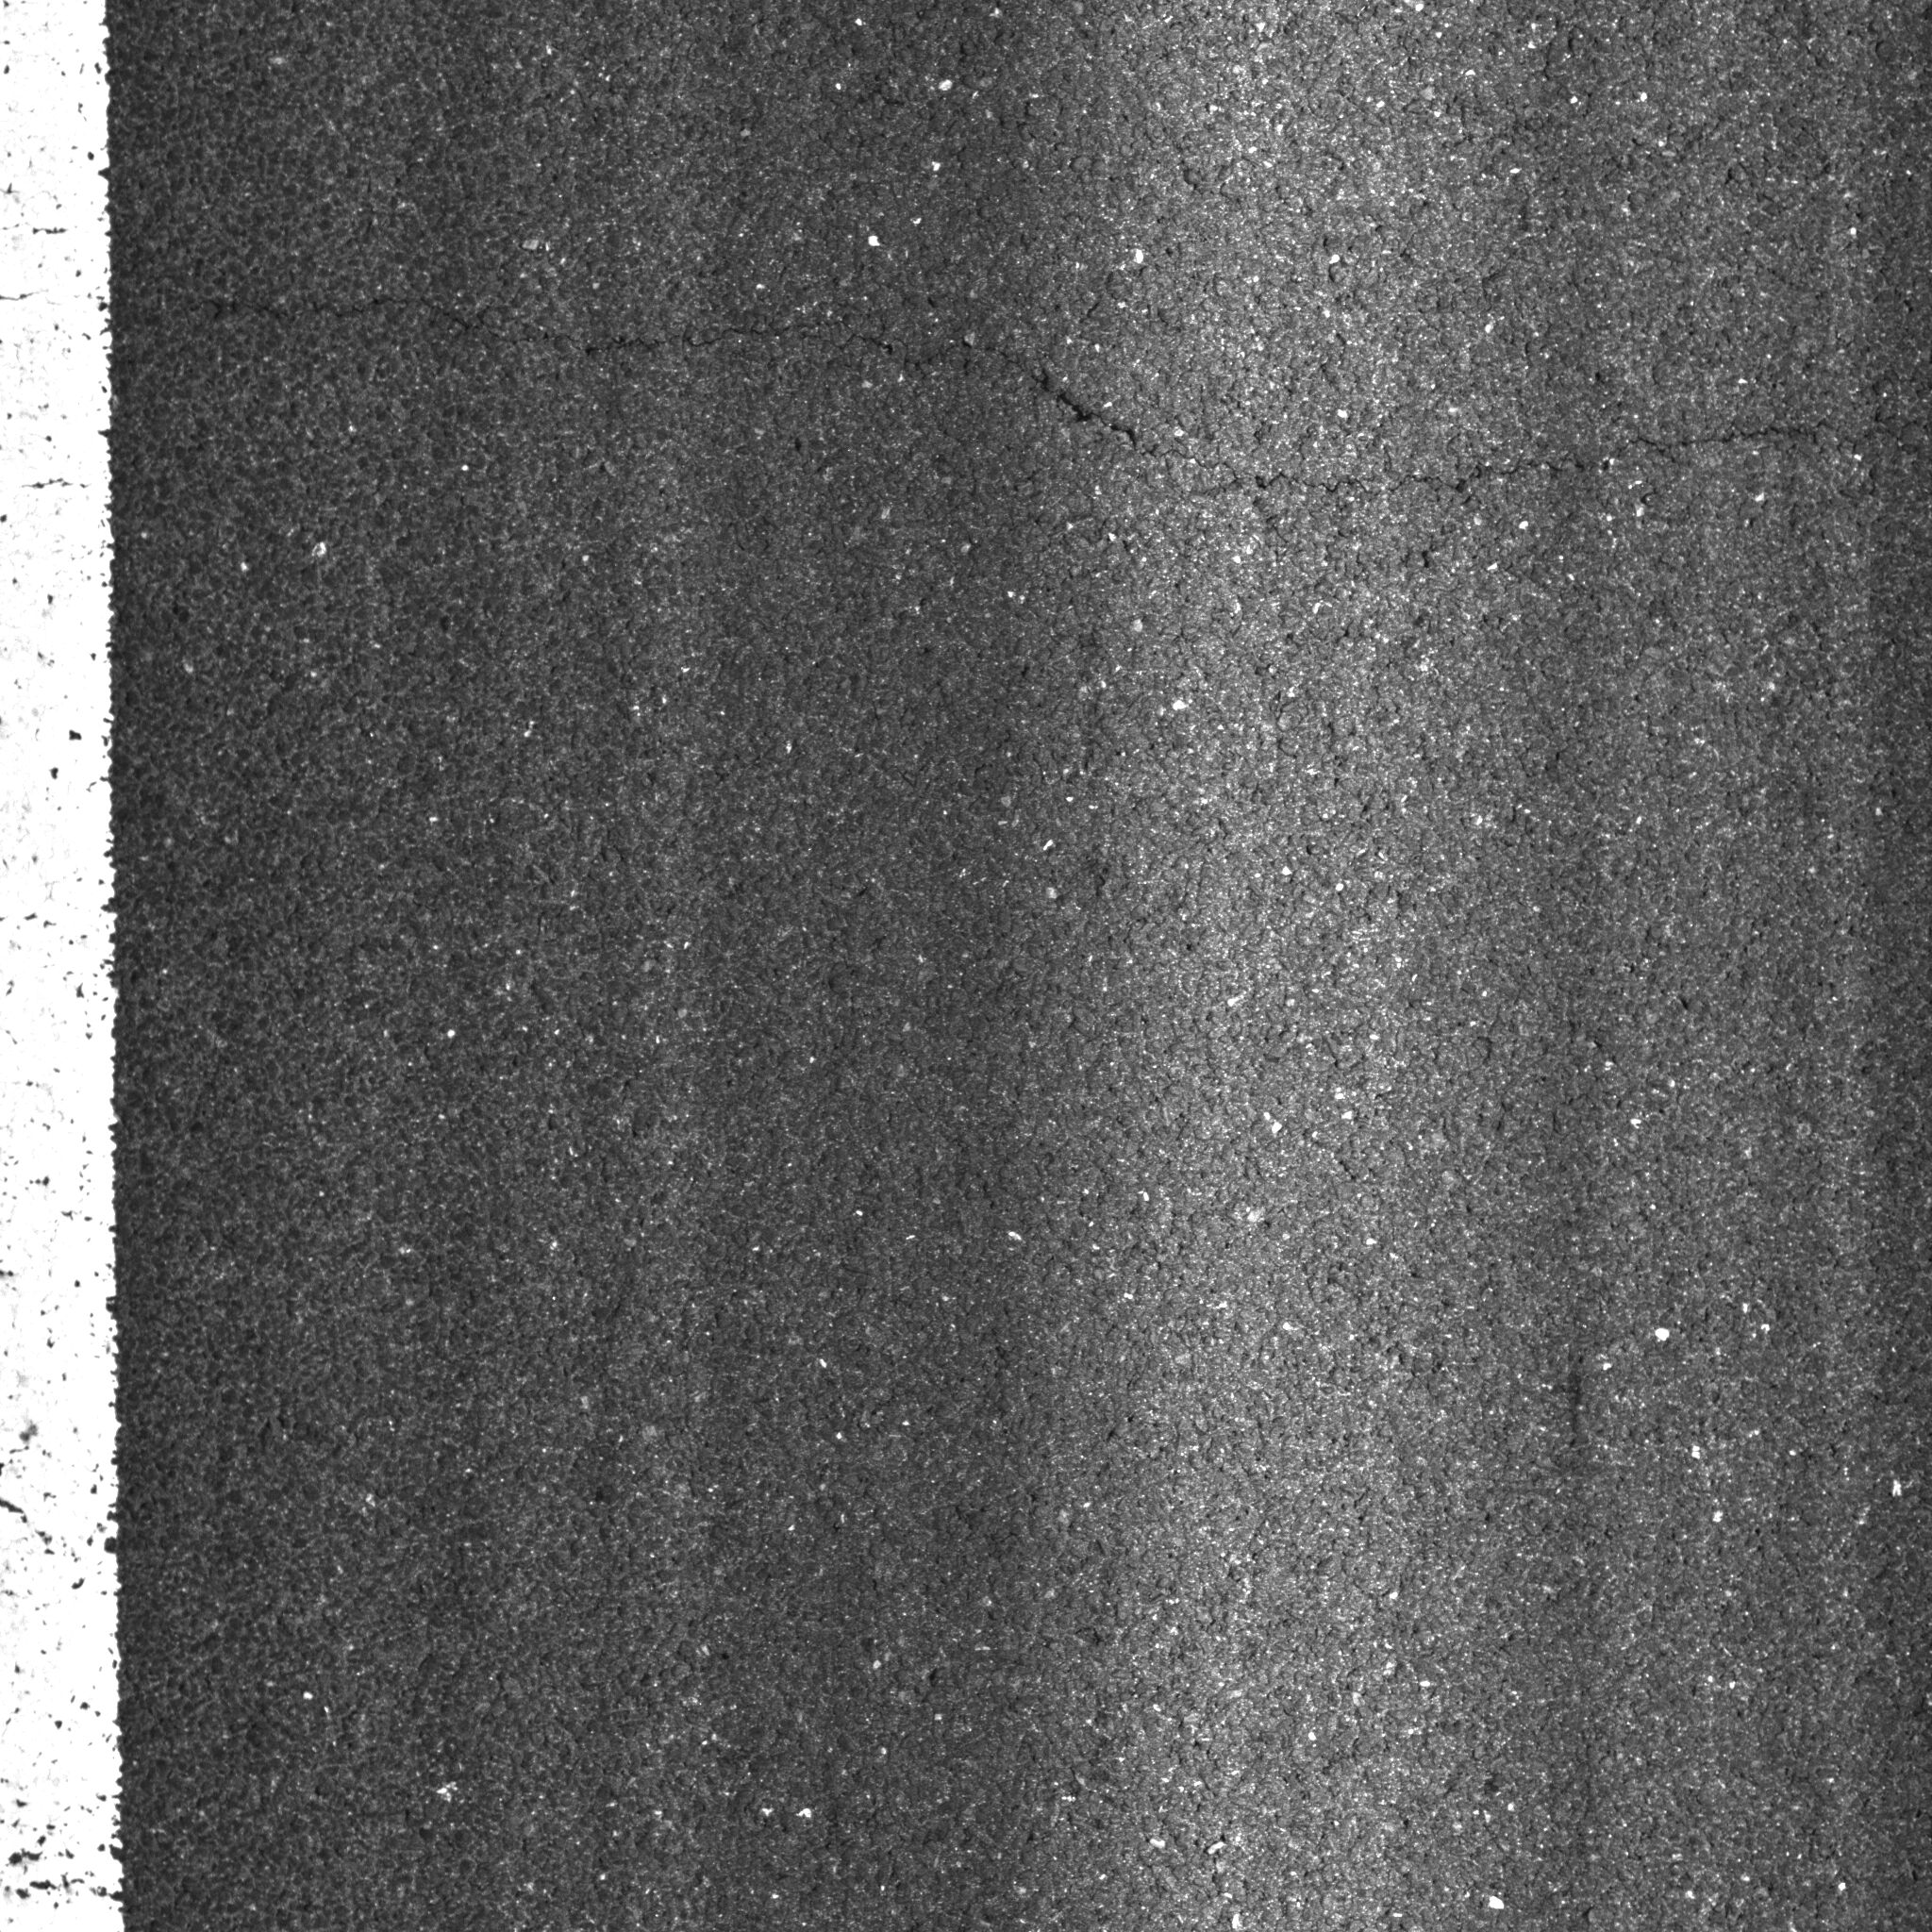transverse: (110, 253, 1918, 550)
